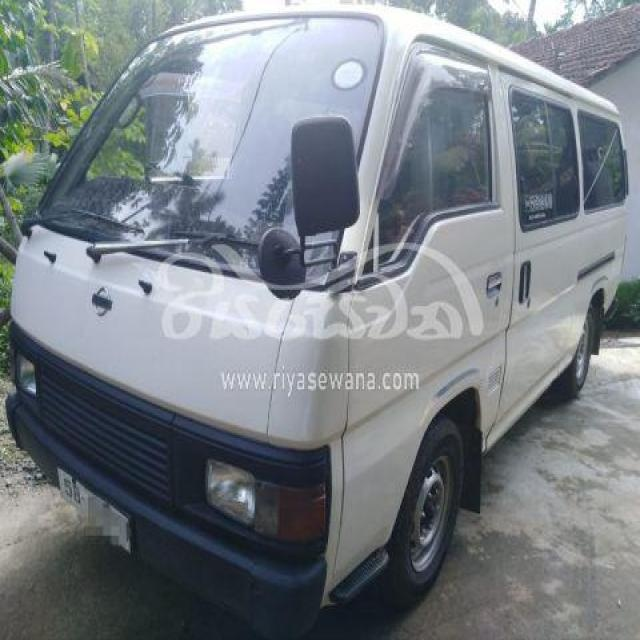Van: (0, 5, 639, 571)
